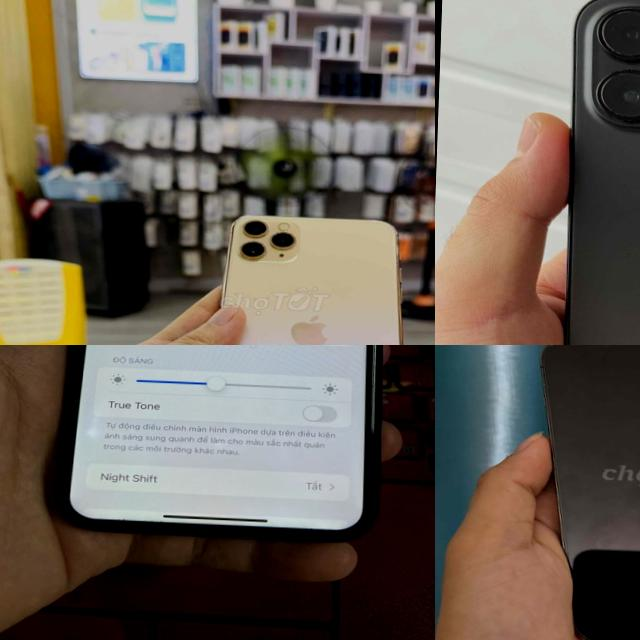gen_11: (56, 345, 393, 541), (194, 202, 424, 345)
gen_12_13: (527, 345, 640, 640)
gen_14: (543, 0, 640, 345)
scratch: (537, 345, 599, 361)
